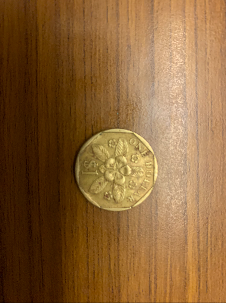object_name: (71, 112, 177, 232)
